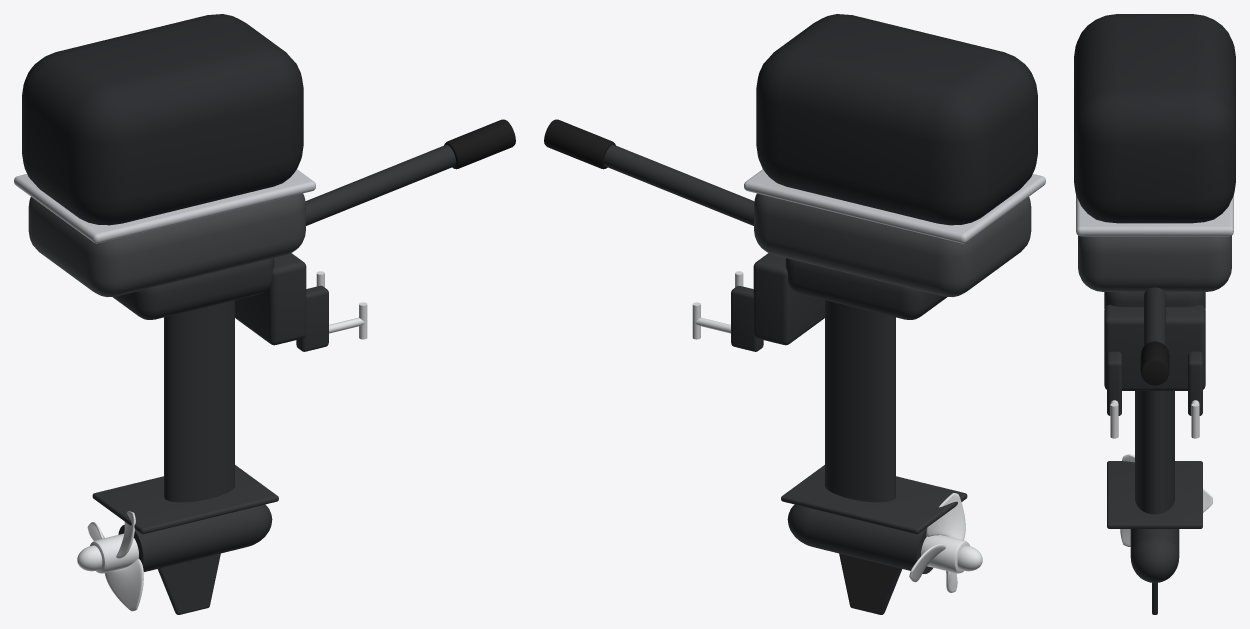
File: motor.glb
3 renders of one model, left to right at view 1: azimuth 30°, elevation 25°; view 2: azimuth 150°, elevation 25°; view 3: azimuth 270°, elevation 25°, orthographic. The views are drawn at different scales.
Parts seen in each view (by area): view 1: cowl_top, cowl_low, leg, plate, pan, cowl_band, gear, bracket, tiller, skeg, grip, clamp.001 (+3 smaller); view 2: cowl_top, cowl_low, leg, plate, pan, cowl_band, gear, bracket, tiller, skeg, grip, clamp (+3 smaller); view 3: cowl_top, cowl_low, bracket, leg, plate, cowl_band, gear_nose, tiller, pan, grip, clamp, clamp.001 (+3 smaller).
Boxes of the visible parts, x1=… form: cowl_top: x1=22, y1=14, x2=303, y2=225; cowl_low: x1=28, y1=193, x2=305, y2=297; leg: x1=164, y1=300, x2=234, y2=502; plate: x1=92, y1=465, x2=278, y2=534; pan: x1=112, y1=258, x2=274, y2=319; cowl_band: x1=14, y1=169, x2=315, y2=243; gear: x1=118, y1=509, x2=253, y2=571; bracket: x1=235, y1=253, x2=306, y2=345; tiller: x1=305, y1=144, x2=456, y2=225; skeg: x1=157, y1=553, x2=220, y2=614; grip: x1=444, y1=119, x2=515, y2=169; clamp.001: x1=296, y1=285, x2=328, y2=351; cowl_top: x1=756, y1=14, x2=1037, y2=225; cowl_low: x1=754, y1=193, x2=1031, y2=296; leg: x1=825, y1=300, x2=895, y2=502; plate: x1=781, y1=465, x2=967, y2=534; pan: x1=785, y1=258, x2=947, y2=319; cowl_band: x1=744, y1=169, x2=1045, y2=243; gear: x1=806, y1=509, x2=933, y2=573; bracket: x1=753, y1=253, x2=824, y2=345; tiller: x1=603, y1=144, x2=754, y2=225; skeg: x1=839, y1=553, x2=902, y2=614; grip: x1=544, y1=119, x2=615, y2=169; clamp: x1=731, y1=286, x2=763, y2=351; cowl_top: x1=1074, y1=14, x2=1235, y2=223; cowl_low: x1=1078, y1=235, x2=1231, y2=291; bracket: x1=1104, y1=305, x2=1205, y2=390; leg: x1=1135, y1=391, x2=1174, y2=514; plate: x1=1107, y1=461, x2=1202, y2=528; cowl_band: x1=1076, y1=195, x2=1233, y2=236; gear_nose: x1=1130, y1=534, x2=1179, y2=582; tiller: x1=1144, y1=287, x2=1165, y2=345; pan: x1=1104, y1=292, x2=1205, y2=308; grip: x1=1140, y1=341, x2=1169, y2=385; clamp: x1=1188, y1=351, x2=1202, y2=415; clamp.001: x1=1107, y1=351, x2=1121, y2=415.
Bounding box in the file's own units: 1.01 × 1.18 × 0.32.
2 materials, 2 textured.
